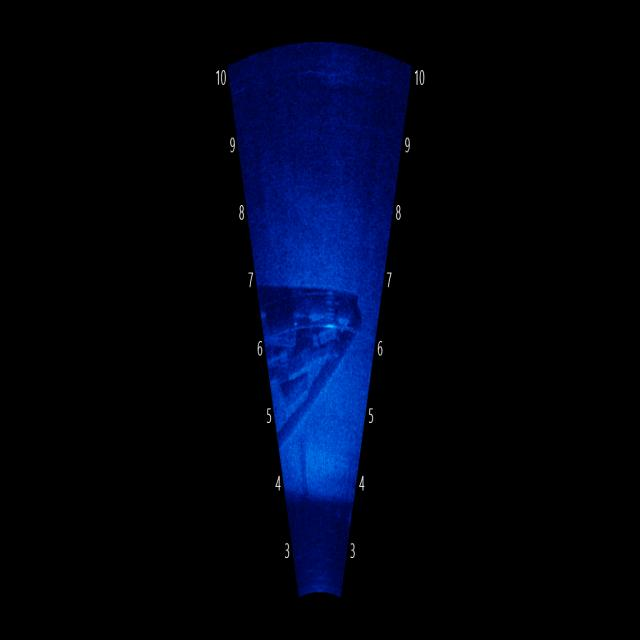triangle: (261, 210, 365, 383)
